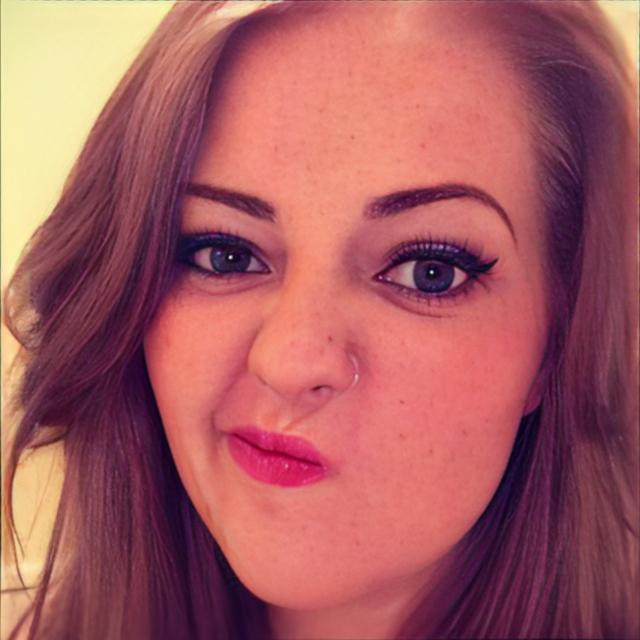disgust: (139, 0, 550, 613)
